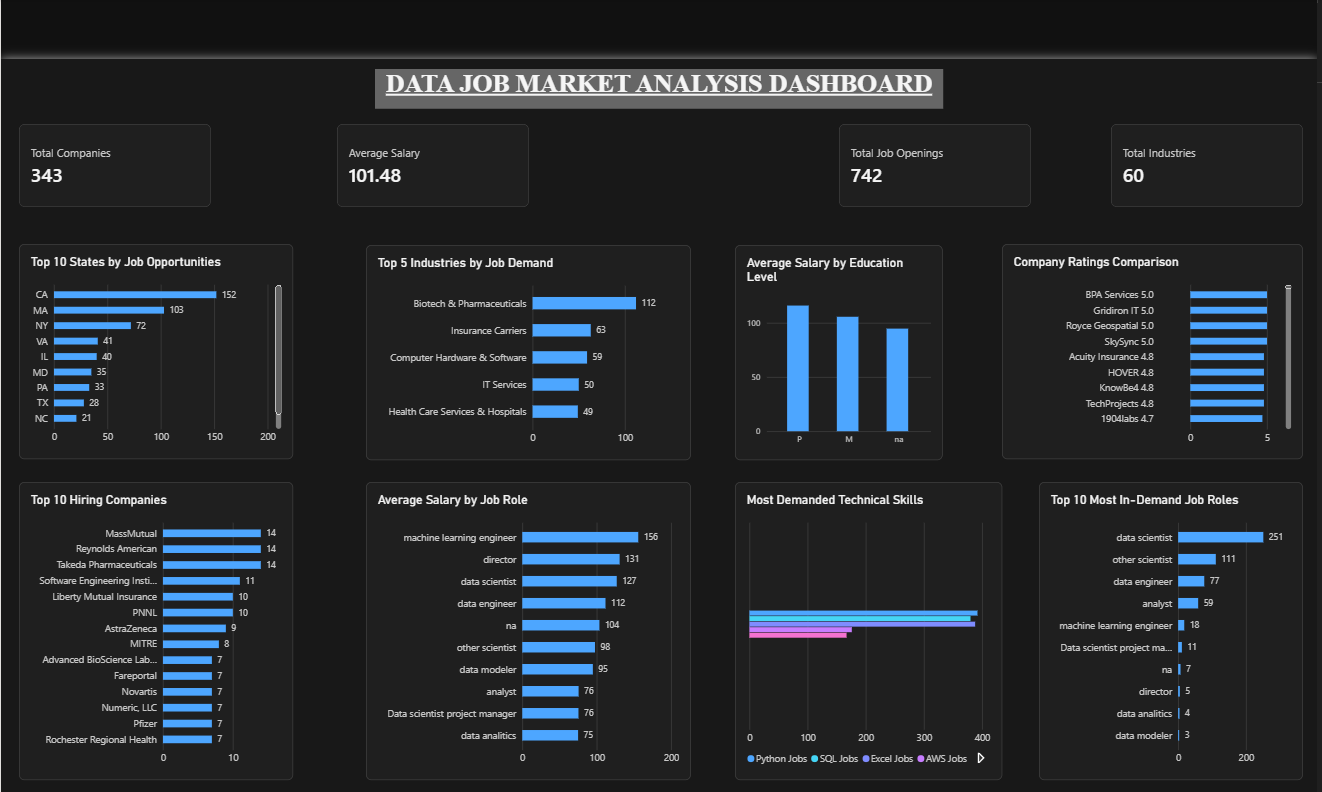

Layout of this report page (visuals, bound fields, positions):
{"tool":"powerbi","page":{"name":"Page 1","canvas":[1920,1080],"ordinal":0},"visuals":[{"type":"cardVisual","fields":{"Data":["data.Total Job Openings"]},"box":[1222.6,94.8,280.1,121.1],"z":0},{"type":"cardVisual","fields":{"Data":["data.Average Salary"]},"box":[490.2,94.8,280.1,121.1],"z":1000},{"type":"cardVisual","fields":{"Data":["data.Total Companies"]},"box":[26.3,94.8,280.1,121.1],"z":2000},{"type":"cardVisual","fields":{"Data":["data.Total Industries"]},"box":[1619.5,94.8,280.1,121.1],"z":3000},{"type":"clusteredBarChart","title":"\tTop 10 States by Job Opportunities","fields":{"Category":["data.Job_Location"],"Y":["data.Total Job Openings"]},"box":[26.3,269.9,399.8,313.7],"z":4000},{"type":"clusteredBarChart","title":"\tTop 10 Most In-Demand Job Roles","fields":{"Category":["data.job_title_sim"],"Y":["data.Total Job Openings"]},"box":[1514.4,617.1,385.2,434.8],"z":5000},{"type":"clusteredBarChart","title":"Top 5 Industries by Job Demand","fields":{"Category":["data.Industry"],"Y":["data.Total Job Openings"]},"box":[532.5,271.4,474.2,313.7],"z":5001},{"type":"clusteredBarChart","title":"Top 10 Hiring Companies","fields":{"Category":["data.company_txt"],"Y":["data.Total Job Openings"]},"box":[26.3,617.1,399.8,434.8],"z":5002},{"type":"clusteredBarChart","title":"Average Salary by Job Role","fields":{"Category":["data.job_title_sim"],"Y":["data.Average Salary"]},"box":[532.5,617.1,474.2,434.8],"z":5003},{"type":"textbox","box":[545.7,14.6,828.7,58.4],"z":5004},{"type":"clusteredColumnChart","title":"\tAverage Salary by Education Level","fields":{"Category":["data.Degree"],"Y":["data.Average Salary"]},"box":[1070.9,271.4,303.5,313.7],"z":5005},{"type":"barChart","title":"\tCompany Ratings Comparison","fields":{"Category":["data.Company_Name"],"Y":["data.Average Rating"]},"box":[1460.4,269.9,439,314],"z":5006},{"type":"clusteredBarChart","title":"Most Demanded Technical Skills","fields":{"Y":["data.Python Jobs","data.SQL Jobs","data.Excel Jobs","data.AWS Jobs","data.Spark Jobs"]},"box":[1070.9,617.1,389.5,434.8],"z":5007}]}

Visuals, with their boxes on the page's 1920x1080 design canvas (x1, y1, x2, y2). These are canvas units, not pixel positions in the 1322x792 screenshot, which may show the page scaled, cropped or inside an application window:
cardVisual - data.Total Job Openings: [x1=1223, y1=95, x2=1503, y2=216]
cardVisual - data.Average Salary: [x1=490, y1=95, x2=770, y2=216]
cardVisual - data.Total Companies: [x1=26, y1=95, x2=306, y2=216]
cardVisual - data.Total Industries: [x1=1620, y1=95, x2=1900, y2=216]
"	Top 10 States by Job Opportunities" clusteredBarChart: [x1=26, y1=270, x2=426, y2=584]
"	Top 10 Most In-Demand Job Roles" clusteredBarChart: [x1=1514, y1=617, x2=1900, y2=1052]
"Top 5 Industries by Job Demand" clusteredBarChart: [x1=532, y1=271, x2=1007, y2=585]
"Top 10 Hiring Companies" clusteredBarChart: [x1=26, y1=617, x2=426, y2=1052]
"Average Salary by Job Role" clusteredBarChart: [x1=532, y1=617, x2=1007, y2=1052]
textbox: [x1=546, y1=15, x2=1374, y2=73]
"	Average Salary by Education Level" clusteredColumnChart: [x1=1071, y1=271, x2=1374, y2=585]
"	Company Ratings Comparison" barChart: [x1=1460, y1=270, x2=1899, y2=584]
"Most Demanded Technical Skills" clusteredBarChart: [x1=1071, y1=617, x2=1460, y2=1052]
